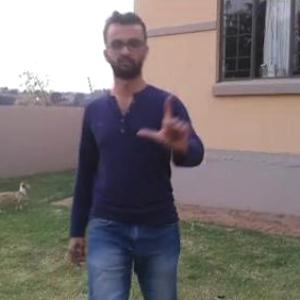land_hand: (136, 90, 194, 158)
